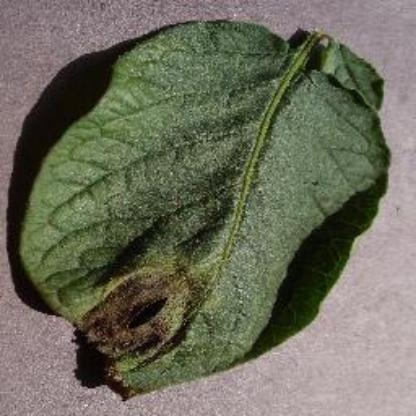Late-Blight: (14, 14, 406, 406)
